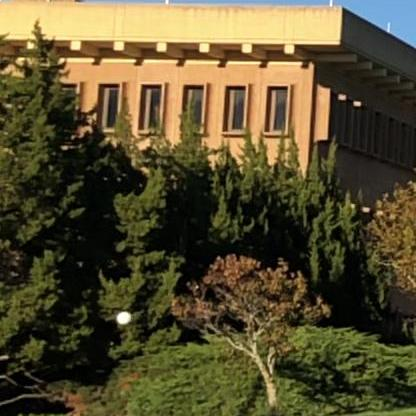golfball: (113, 307, 130, 322)
